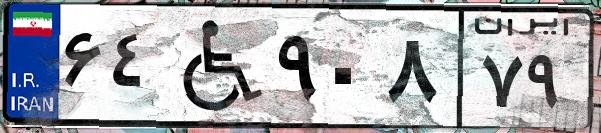0: (330, 28, 385, 110)
4: (110, 28, 158, 98)
6: (57, 26, 110, 100)
7: (475, 38, 525, 113)
8: (385, 28, 445, 110)
9: (270, 28, 330, 110), (525, 38, 570, 115)
ژ (معلولین و جانبازان): (158, 12, 270, 120)
